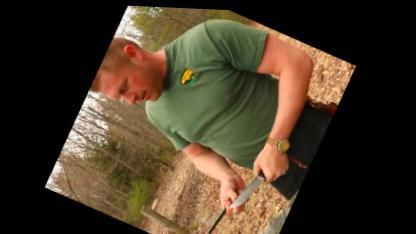knife: (226, 142, 295, 227)
